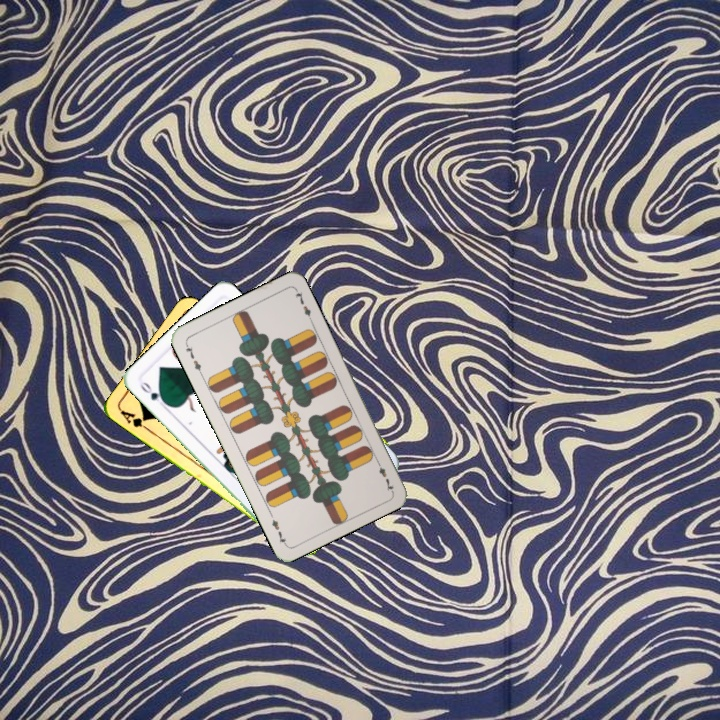E7: (181, 339, 205, 377), (372, 456, 396, 494)
GA: (116, 406, 153, 434)
GO: (136, 377, 170, 410)
